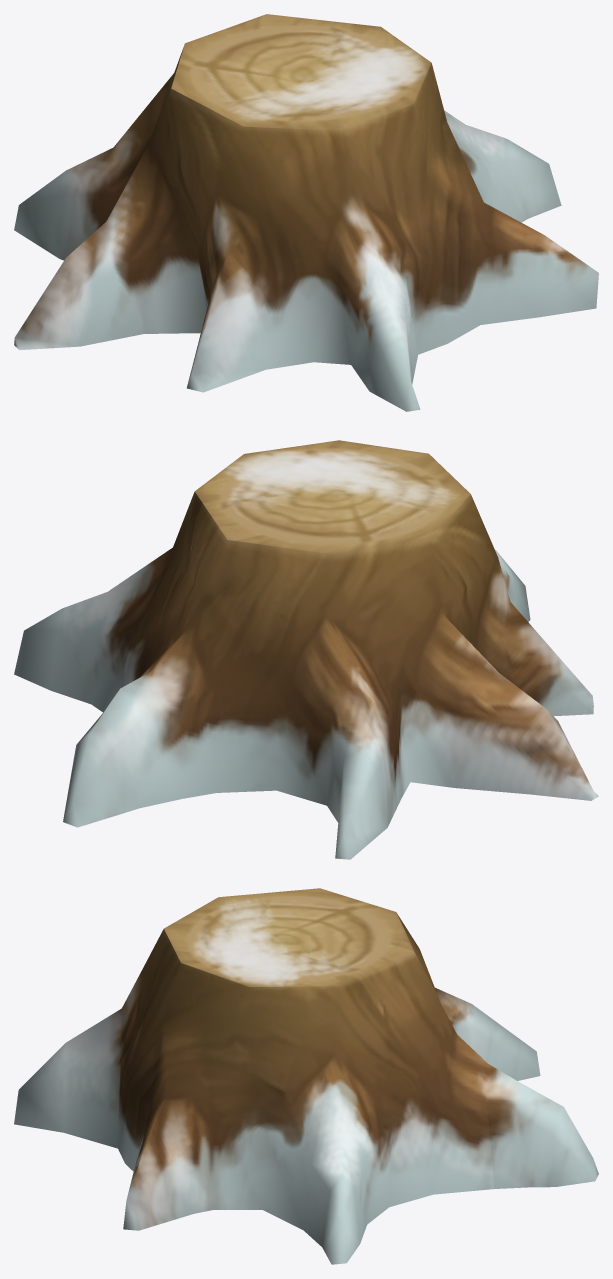
File: Ice_tree_02.fbx
The picture shows the model from 3 angles, top to bottom: view 1: azimuth 30°, elevation 25°; view 2: azimuth 150°, elevation 25°; view 3: azimuth 270°, elevation 25°; orthographic projection. The views are drawn at different scales.
Visible parts, largest first — view 1: Ice_tree_02; view 2: Ice_tree_02; view 3: Ice_tree_02.
Boxes of the visible parts, <box> form: Ice_tree_02: <box>14,14,598,411</box>; Ice_tree_02: <box>14,440,598,859</box>; Ice_tree_02: <box>14,888,598,1264</box>.
Size of the model in its own units: 151 by 57.13 by 151.
